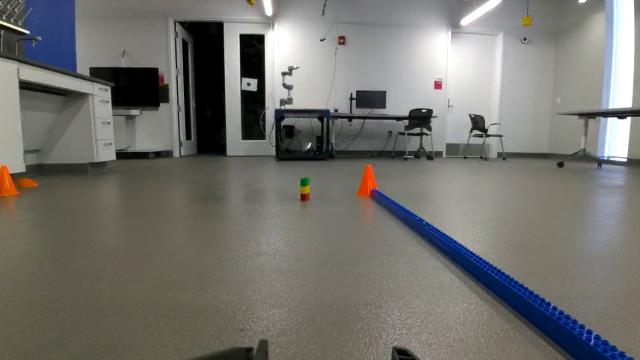lego: (290, 170, 314, 214)
